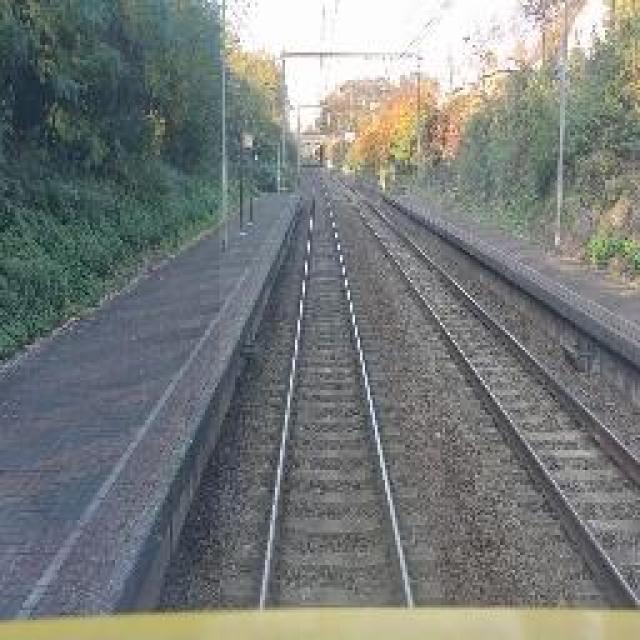rail: (221, 164, 442, 611)
